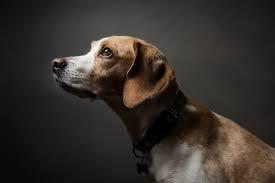Dog: (48, 28, 175, 110)
